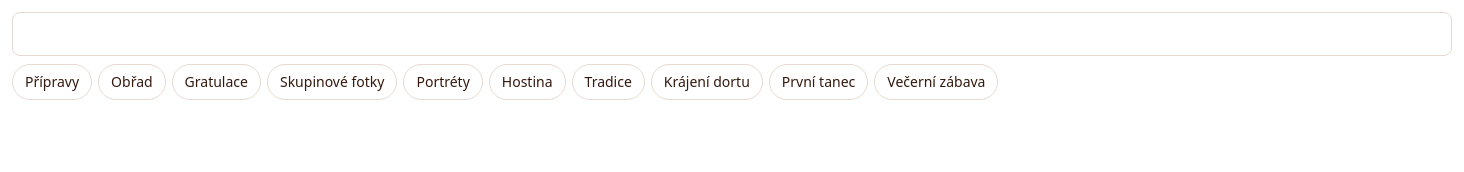
Scenario: ChapterTitleField › fills the title with a tapped preset, and says which one is chosen
The image size is (1464, 172).
Click the button "Obřad" at (132, 82), box [98,64,166,100]
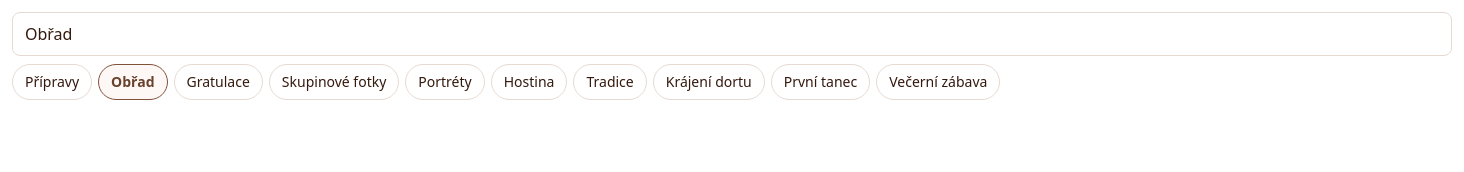
expect the field named "Název kapitoly" holds "Obřad": met, box [12,12,1452,56]
